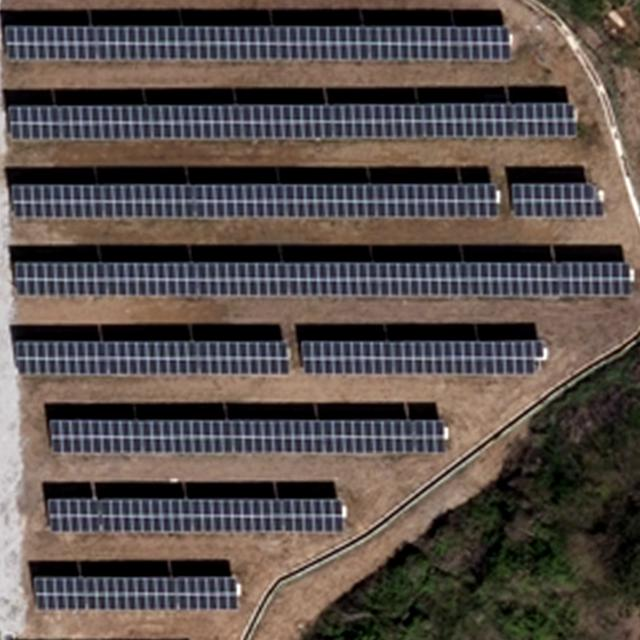panel: (2, 22, 514, 62), (7, 102, 509, 142), (10, 180, 500, 218), (48, 416, 447, 457), (106, 262, 469, 298), (15, 339, 289, 378), (297, 338, 546, 377), (101, 495, 344, 533), (32, 573, 239, 612), (509, 180, 599, 224), (11, 260, 107, 300), (468, 260, 560, 299), (511, 101, 580, 140), (559, 262, 630, 297), (48, 497, 102, 537)
